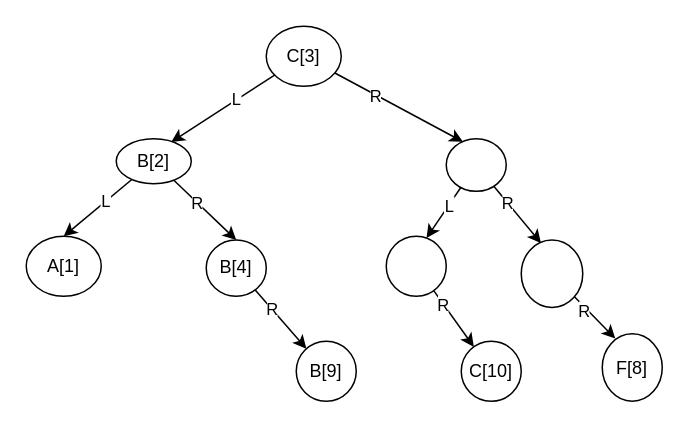
This 689x428 diagram has some shape labels left out. Each missing label, with the box of its shape:
C[5]: (385, 235, 446, 296)
D[6]: (445, 137, 506, 191)
E[7]: (520, 238, 583, 308)
